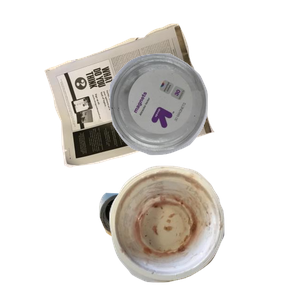glass: (96, 190, 230, 300)
paper: (42, 21, 249, 181)
plastic: (107, 51, 300, 199)
trash: (107, 163, 300, 300)
